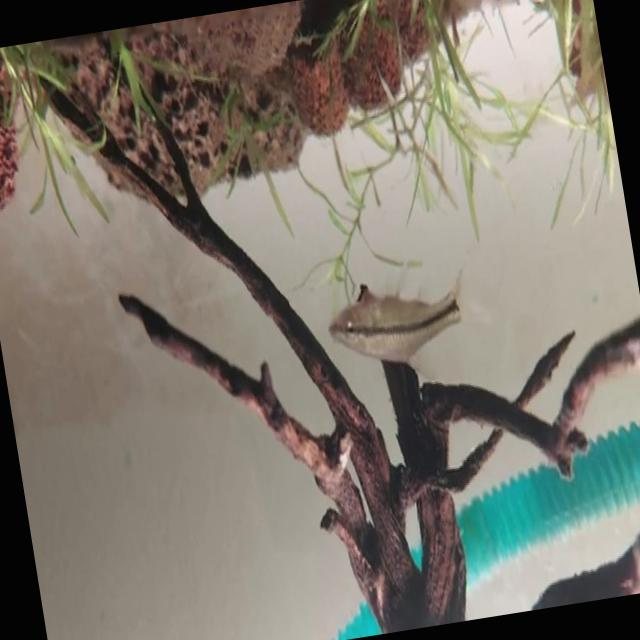Cakil Baligi: (318, 270, 478, 403)
